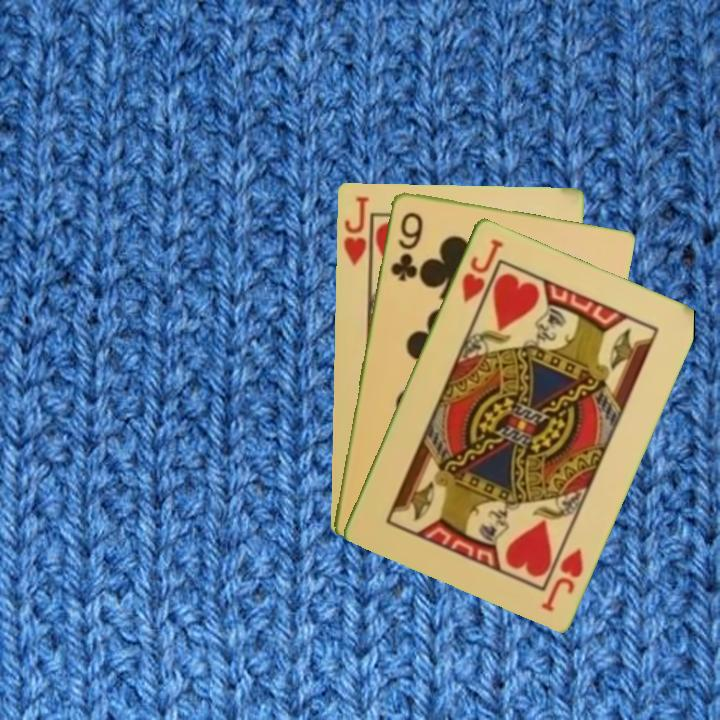9c: (387, 208, 426, 284)
Jh: (457, 234, 506, 305), (537, 544, 586, 614), (340, 192, 374, 277)
